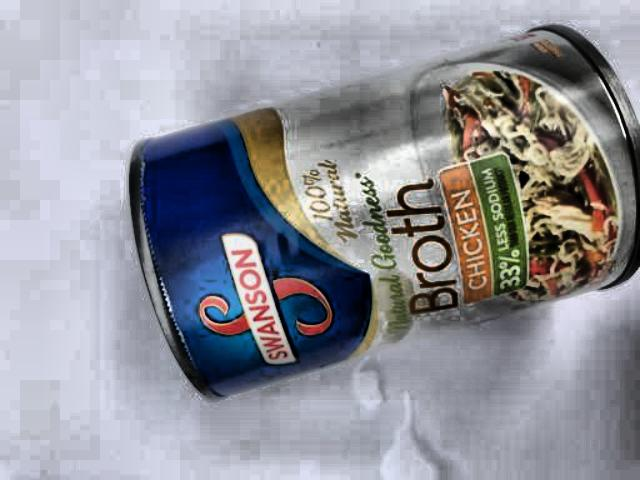Almennt: (96, 14, 640, 396)
